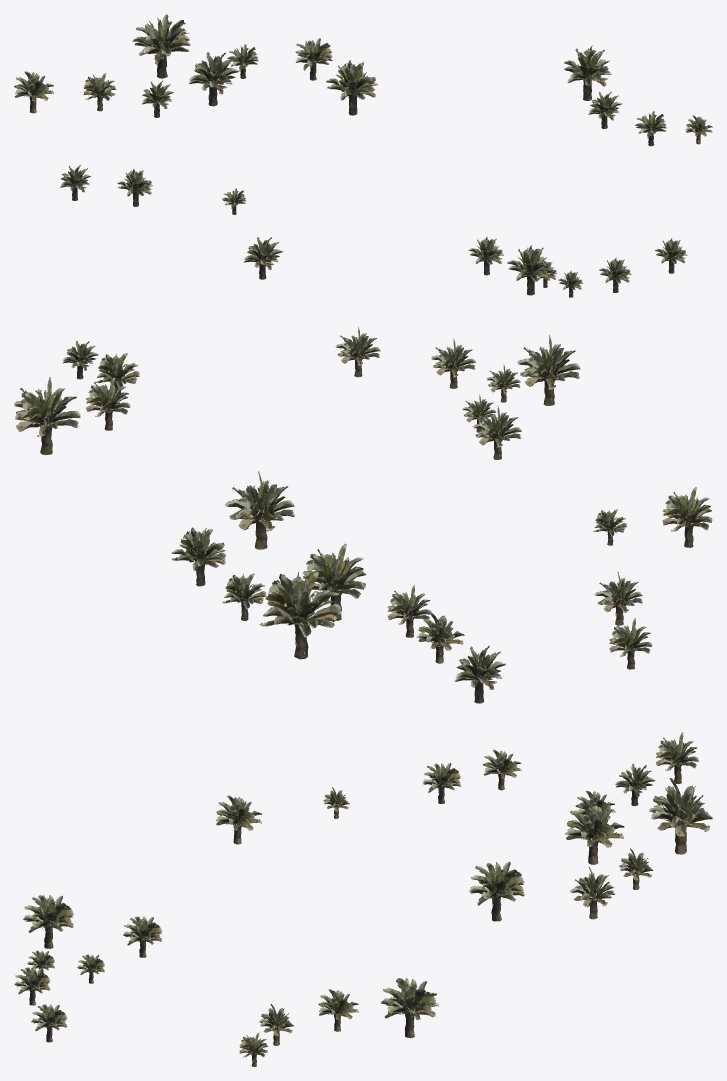
File: Palmera01.glb
3 renders of one model, top to bottom at view 1: azimuth 30°, elevation 25°; view 2: azimuth 150°, elevation 25°; view 3: azimuth 270°, elevation 25°, orthographic. The views are drawn at different scales.
Parts seen in each view (by area): view 1: temp_mesh.ply.769; view 2: temp_mesh.ply.769; view 3: temp_mesh.ply.769.
Boxes of the visible parts, x1,y1,x2,y2 form: temp_mesh.ply.769: (14, 14, 712, 297); temp_mesh.ply.769: (14, 327, 712, 703); temp_mesh.ply.769: (14, 732, 712, 1066).
Bounding box in the file's own units: 111 × 22.4 × 109.
Materials: 1 (1 with a texture image).
